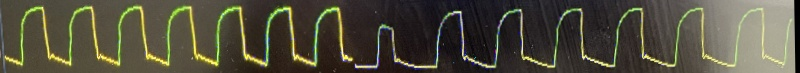normal_pressure: (0, 0, 782, 73)
